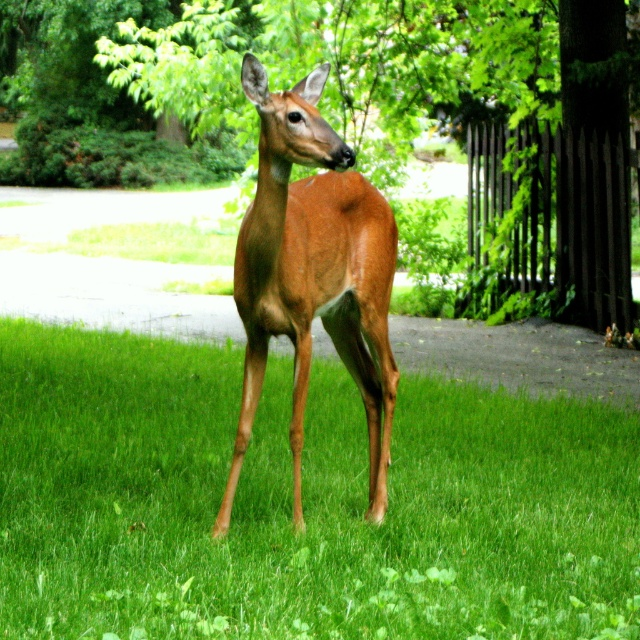Deer: (211, 49, 405, 549)
